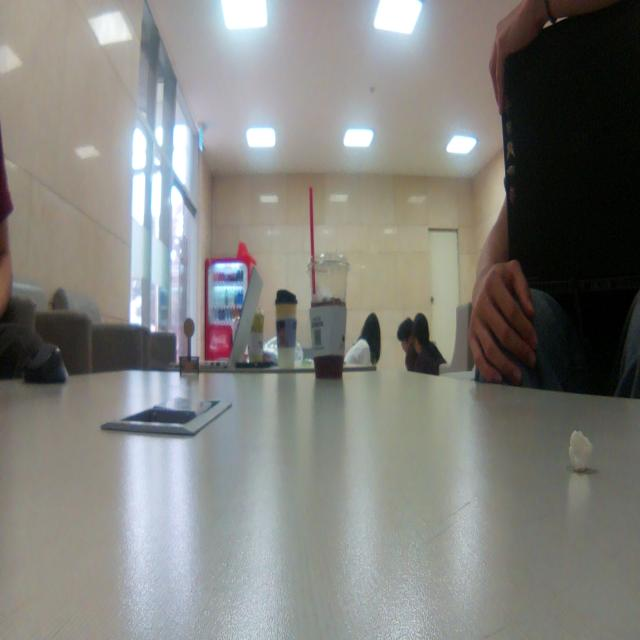target: (180, 318, 199, 377)
